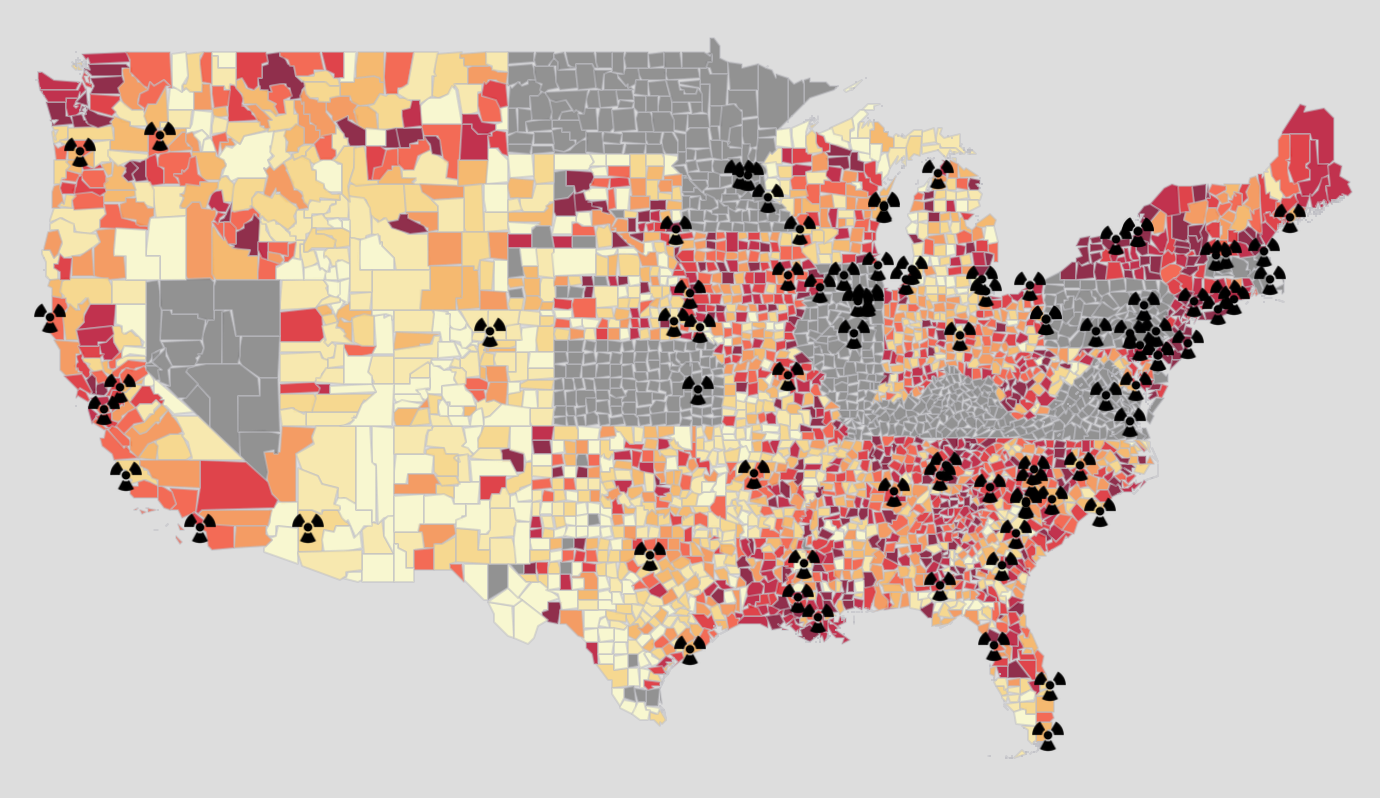

What the dashboard file says about the page in this screenshot:
{"tool":"tableau","page":{"name":"Dashboard 1","canvas":[1000,800],"ordinal":0},"visuals":[{"type":"worksheet","title":"Sheet 3)","mark":"Automatic","rows":["Number of Records"],"cols":["provstate"],"box":[0,0,365.9,800]},{"type":"legend","title":"Sheet 3)","param":"[federated.0k3zxak1oaesum1dcgc9w01v58vp].[none:targtype1_txt:nk]","box":[365.9,0,132.1,800]},{"type":"worksheet","title":"Sheet 1","mark":"Automatic","rows":["Number of Records"],"cols":["provstate"],"box":[498,0,365.9,800]},{"type":"legend","title":"Sheet 1","param":"[federated.0k3zxak1oaesum1dcgc9w01v58vp].[none:attacktype1_txt:nk]","box":[863.9,0,132.1,800]}]}

Visuals, with their boxes on the page's 1000x800 design canvas (x1, y1, x2, y2). These are canvas units, not pixel positions in the 1380x798 screenshot, which may show the page scaled, cropped or inside an application window:
"Sheet 3)" worksheet: rect(0, 0, 366, 800)
"Sheet 3)" legend: rect(366, 0, 498, 800)
"Sheet 1" worksheet: rect(498, 0, 864, 800)
"Sheet 1" legend: rect(864, 0, 996, 800)
